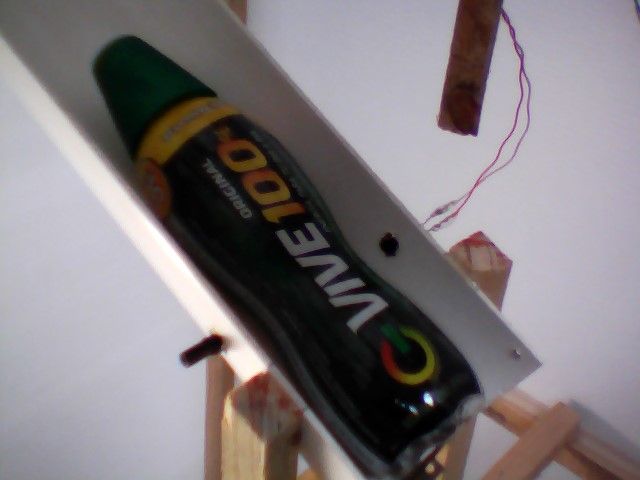plastico: (83, 24, 495, 480)
